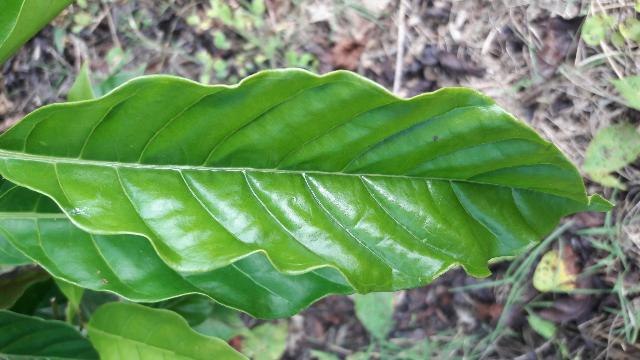healthy: (0, 68, 615, 293)
